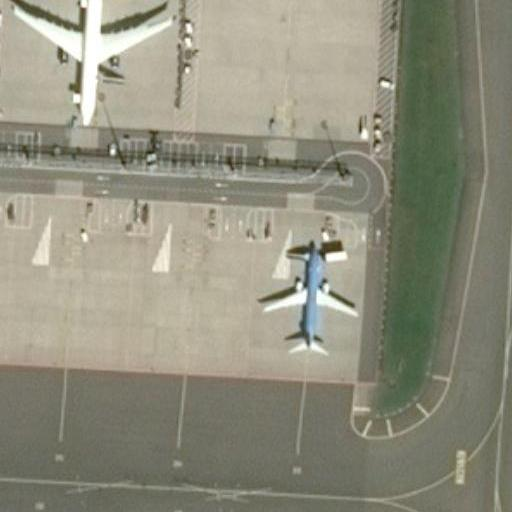Aircraft: (6, 0, 170, 125), (257, 234, 358, 360)
